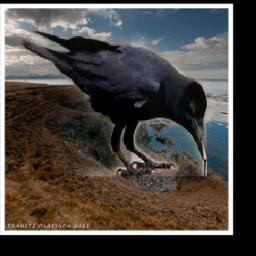Crow: (19, 28, 207, 176)
